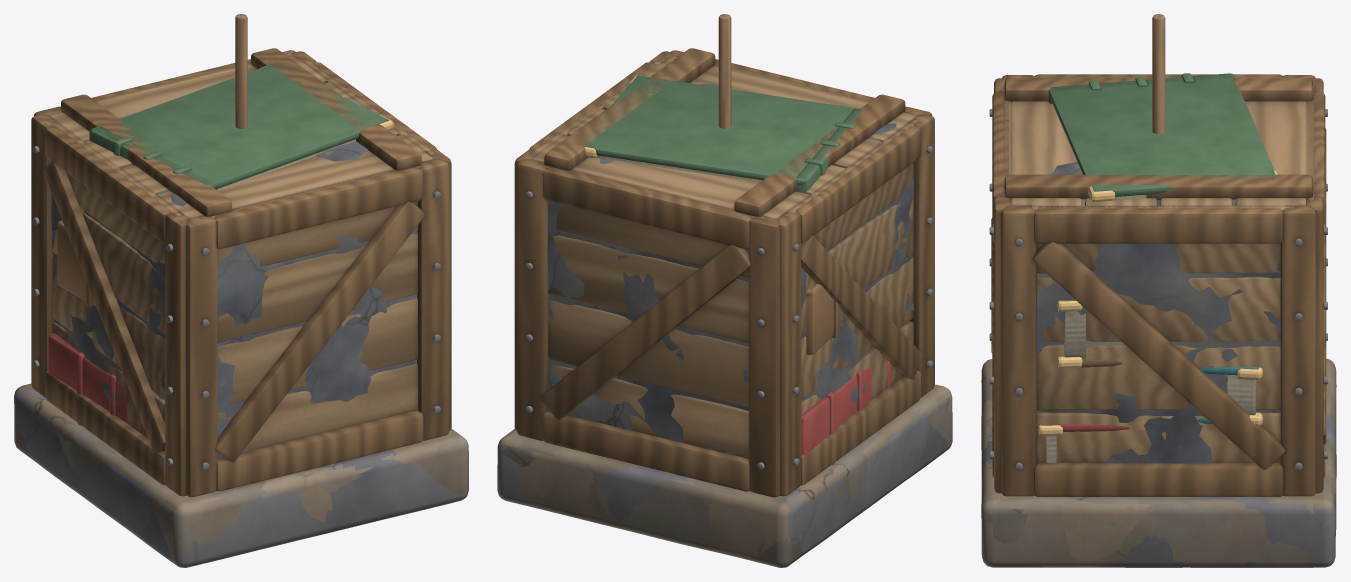
File: props.glb
3 renders of one model, left to right at view 1: azimuth 30°, elevation 25°; view 2: azimuth 150°, elevation 25°; view 3: azimuth 270°, elevation 25°, orthographic. The views are drawn at different scales.
Visible parts, largest first — view 1: Block_Crate, Block_Books, TileGoal, Block_Stone, Tile_A, Tile_C, Tile_B, Broom; view 2: Block_Crate, Block_Books, Block_Stone, TileGoal, Tile_C, Tile_B, Tile_A, Broom; view 3: Block_Crate, Block_Books, Block_Stone, Tile_A, TileGoal, Tile_C, Tile_B, Broom.
Part boxes in pixels (bbox=[...]): Block_Crate: bbox=[31, 48, 451, 497]; Block_Books: bbox=[48, 64, 393, 436]; TileGoal: bbox=[14, 388, 467, 567]; Block_Stone: bbox=[51, 141, 417, 459]; Tile_A: bbox=[60, 427, 468, 544]; Tile_C: bbox=[14, 383, 461, 521]; Tile_B: bbox=[14, 420, 342, 565]; Broom: bbox=[235, 14, 247, 128]; Block_Crate: bbox=[514, 48, 934, 497]; Block_Books: bbox=[582, 75, 900, 465]; Block_Stone: bbox=[547, 83, 914, 457]; TileGoal: bbox=[497, 412, 949, 554]; Tile_C: bbox=[499, 384, 950, 557]; Tile_B: bbox=[500, 397, 952, 567]; Tile_A: bbox=[517, 390, 952, 558]; Broom: bbox=[718, 14, 731, 128]; Block_Crate: bbox=[989, 74, 1327, 496]; Block_Books: bbox=[1038, 73, 1277, 462]; Block_Stone: bbox=[1037, 161, 1280, 463]; Tile_A: bbox=[981, 361, 1336, 567]; TileGoal: bbox=[981, 404, 1335, 567]; Tile_C: bbox=[981, 358, 1336, 560]; Tile_B: bbox=[982, 376, 1336, 567]; Broom: bbox=[1152, 14, 1165, 134].
Size of the model in its own units: 0.9745 by 1.47 by 0.9753.
9 materials, 3 textured.
